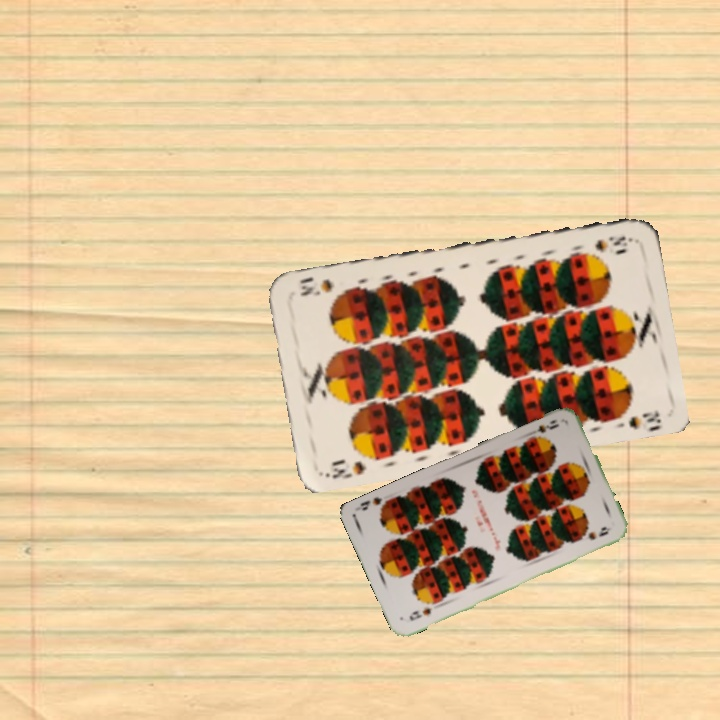S10: (321, 455, 368, 482), (591, 232, 635, 252)
S9: (527, 416, 562, 442), (405, 603, 435, 623)
